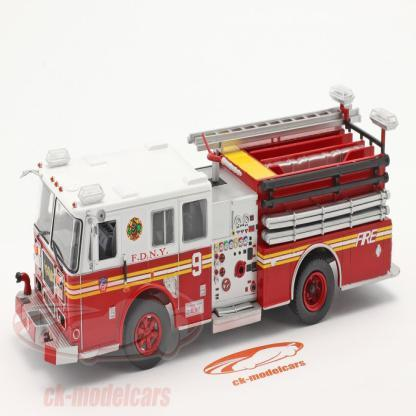fire-truck: (8, 87, 382, 387)
